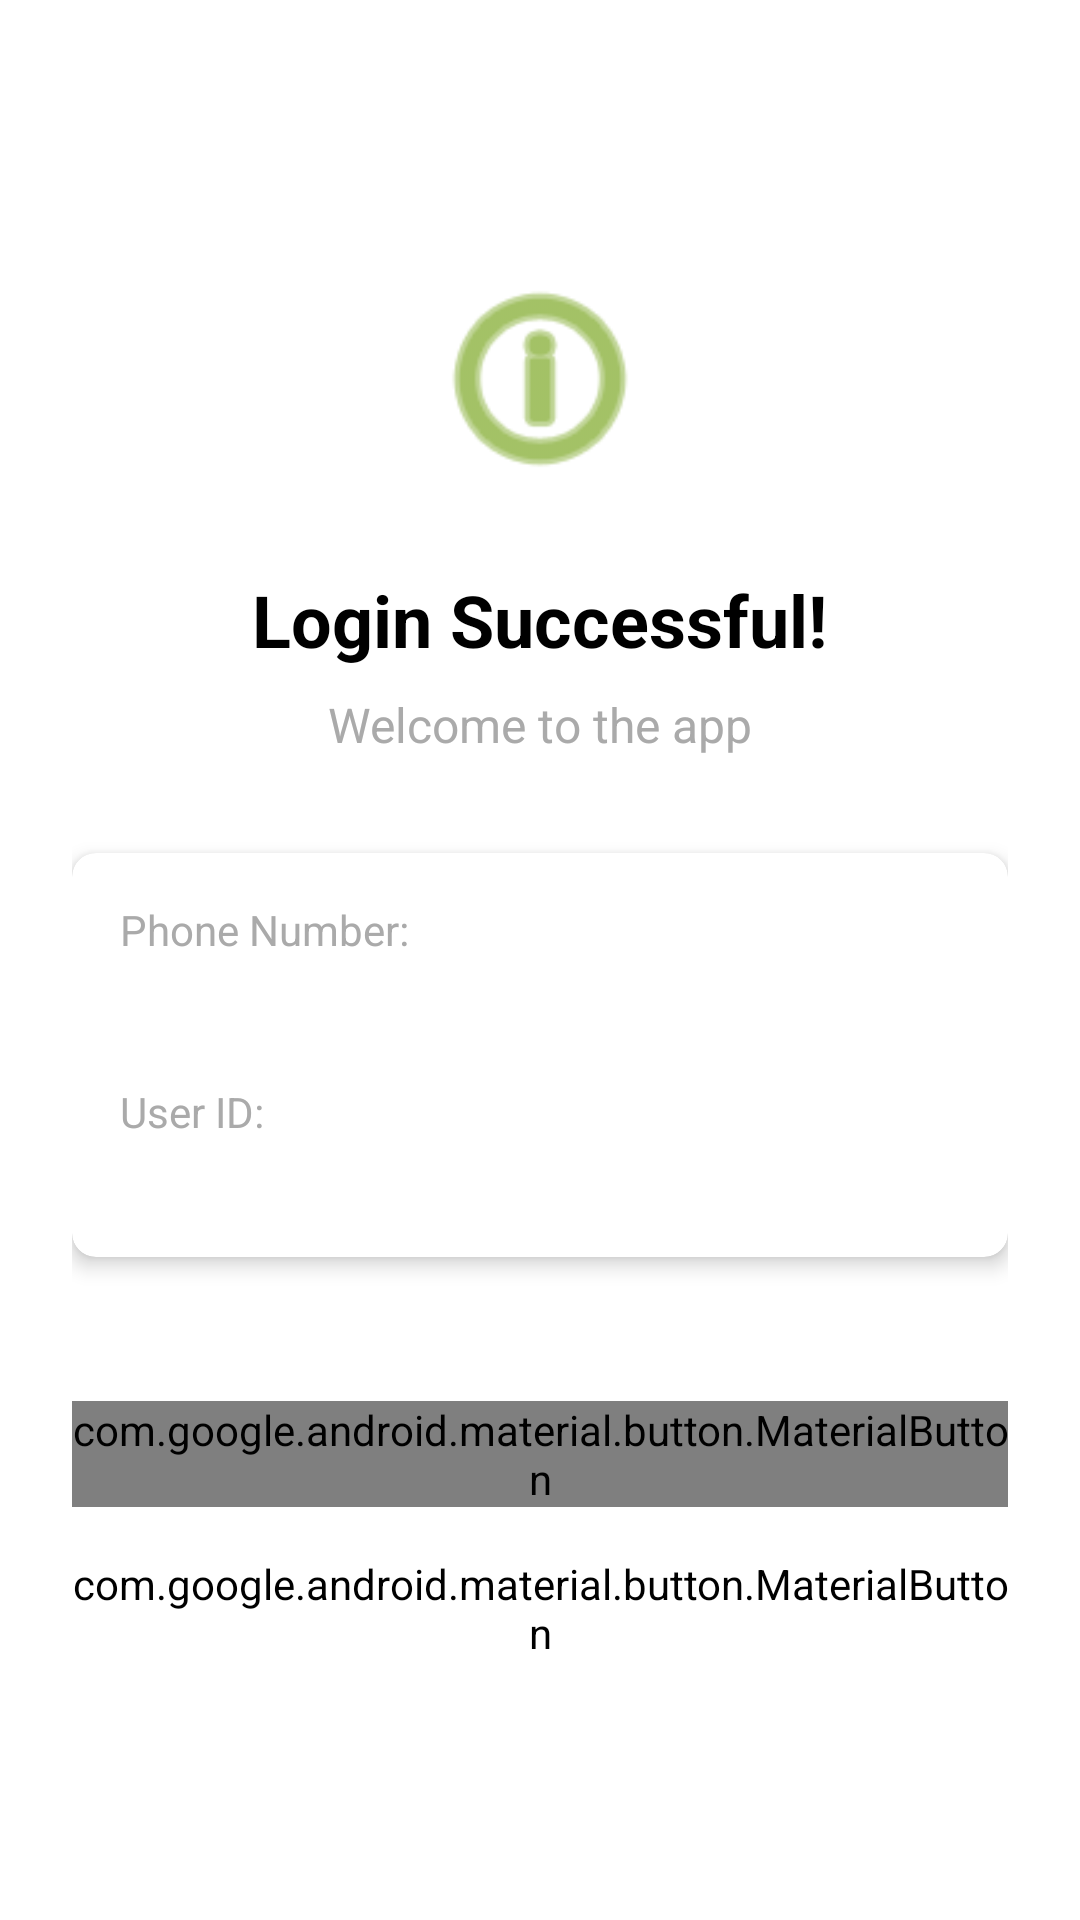

Where to tap for icons on this 1080 × 1920 app screen, as (x,y):
info details: (540,379)
